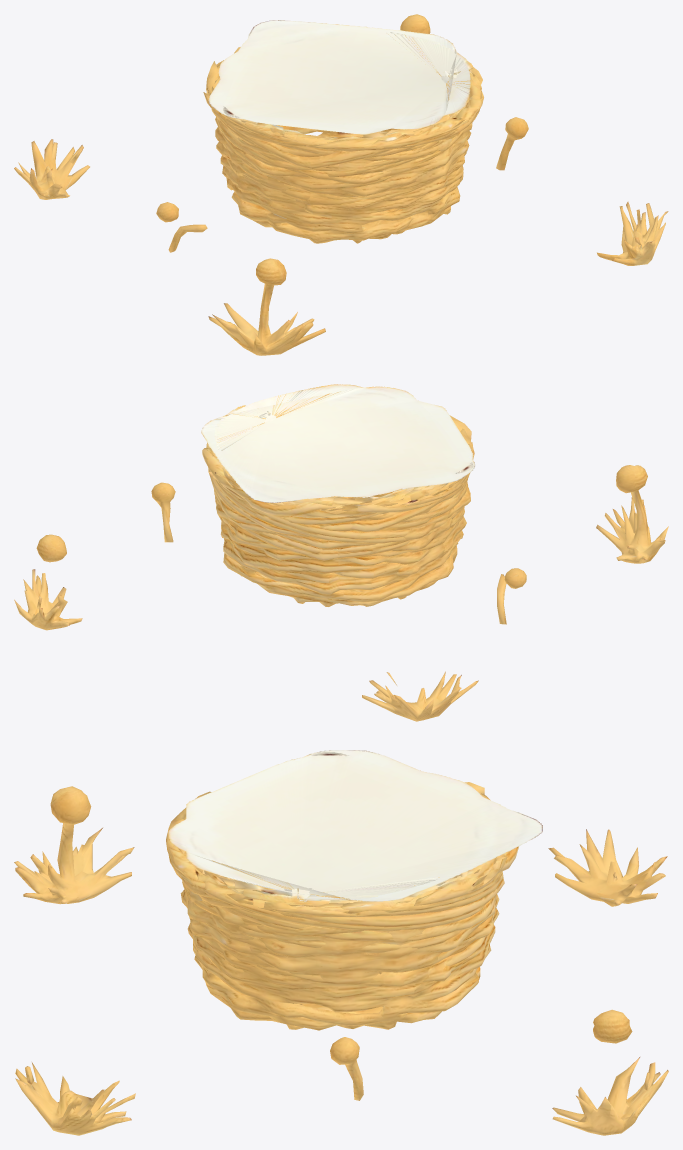
Rendered from s1_gen_basket_blue.glb.
The picture shows the model from 3 angles, top to bottom: view 1: azimuth 30°, elevation 25°; view 2: azimuth 150°, elevation 25°; view 3: azimuth 270°, elevation 25°; orthographic projection. The views are drawn at different scales.
Bounding box in the file's own units: 1.91 × 0.591 × 1.89.
1 material, 1 textured.
